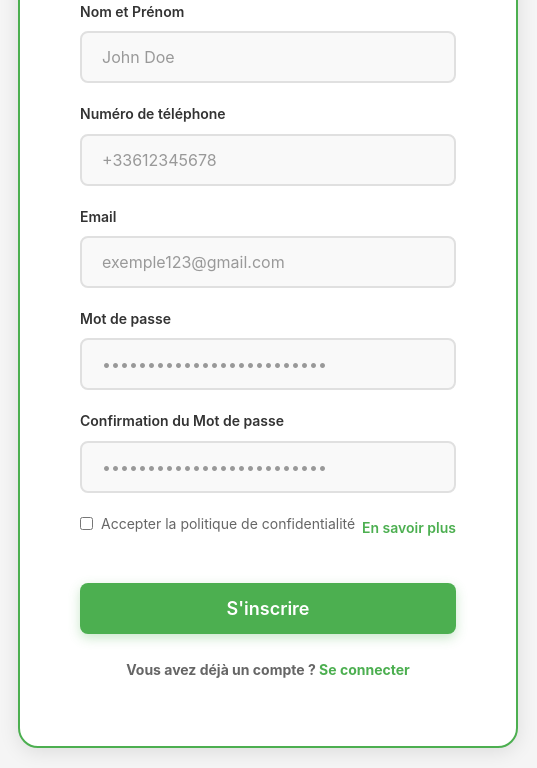
Inscription - Tests Unitaires › Soumission du formulaire › ne devrait pas soumettre le formulaire si la validation échoue
(page scrolled)
Click the checkbox: click(86, 524) [80,517,93,530]
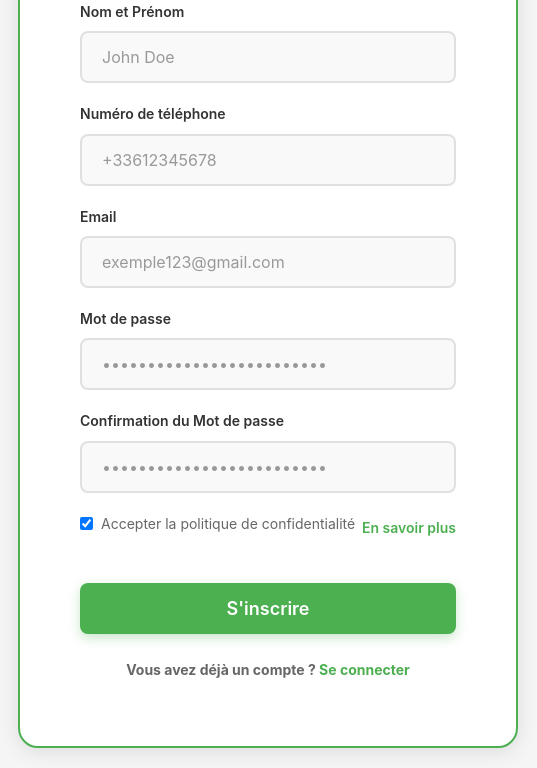
Note: Utiliser fireEvent.submit pour contourner la validation HTML5 native
Submit the form, box [80,1,456,634]
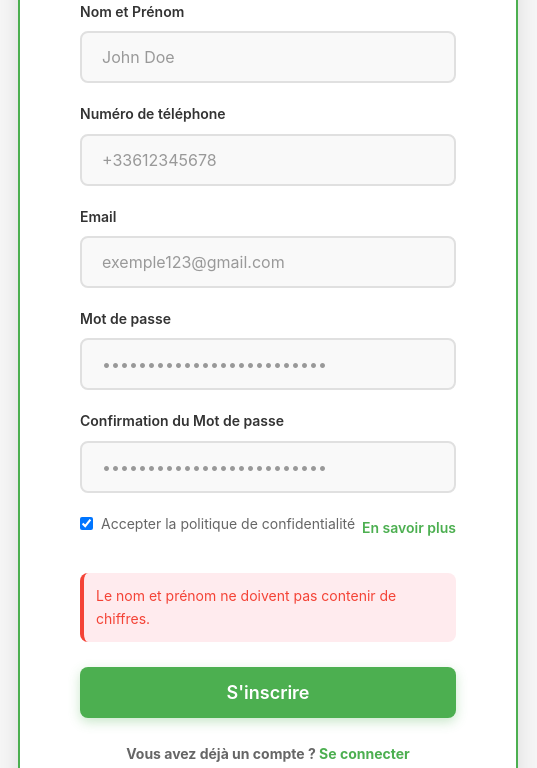
Now the text "Le nom et prénom ne doivent pas contenir de chiffres." is shown, box [80,573,456,642]
